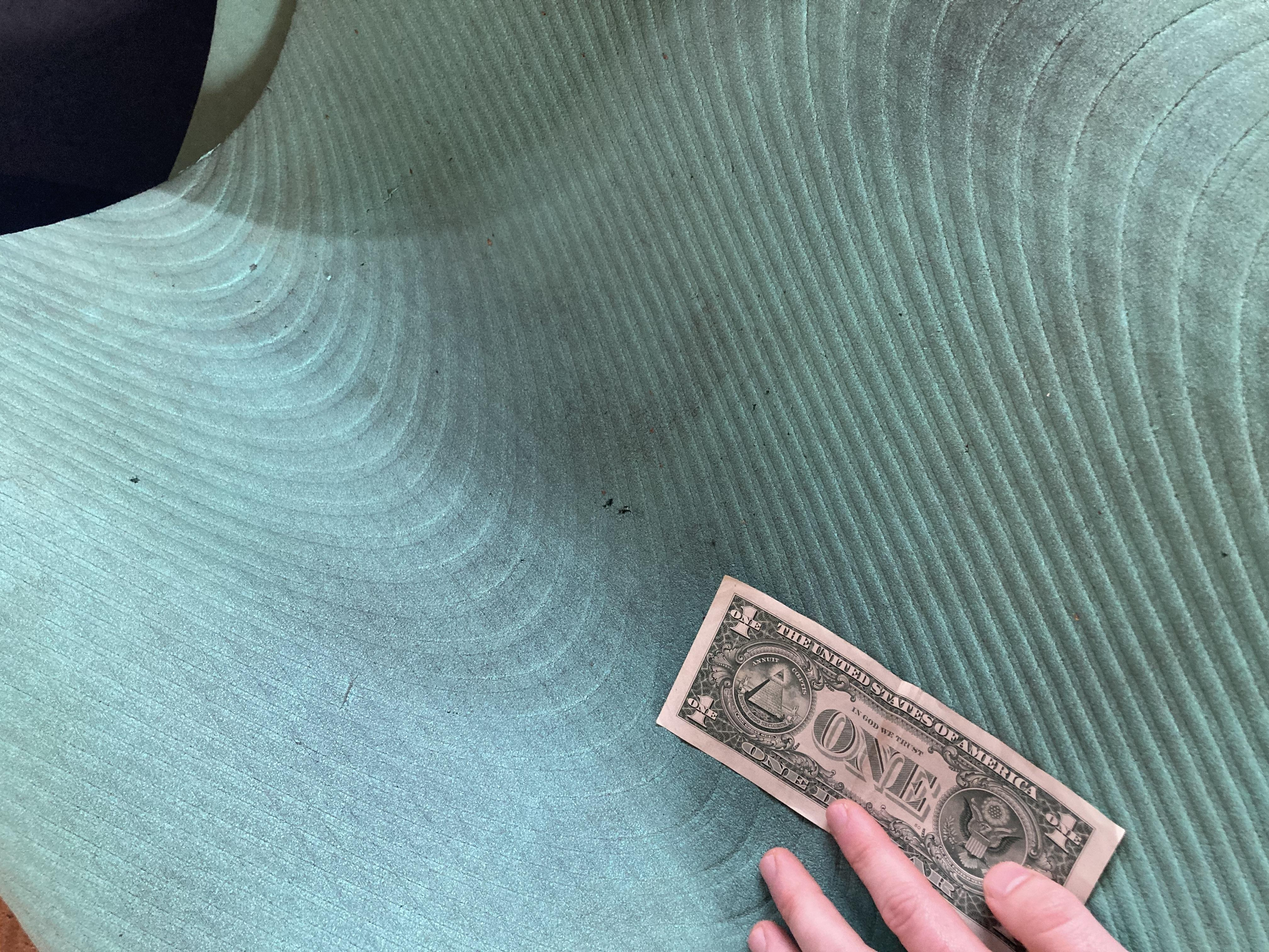one-back: (0, 491, 510, 851)
